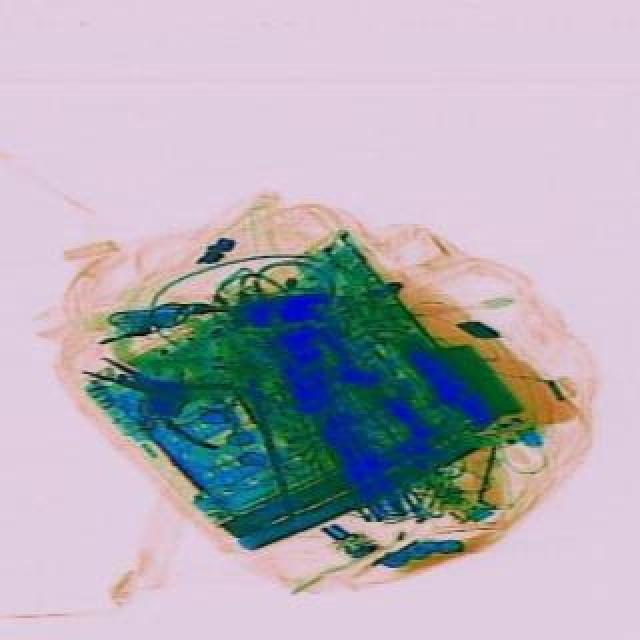wrench: (68, 322, 290, 470)
